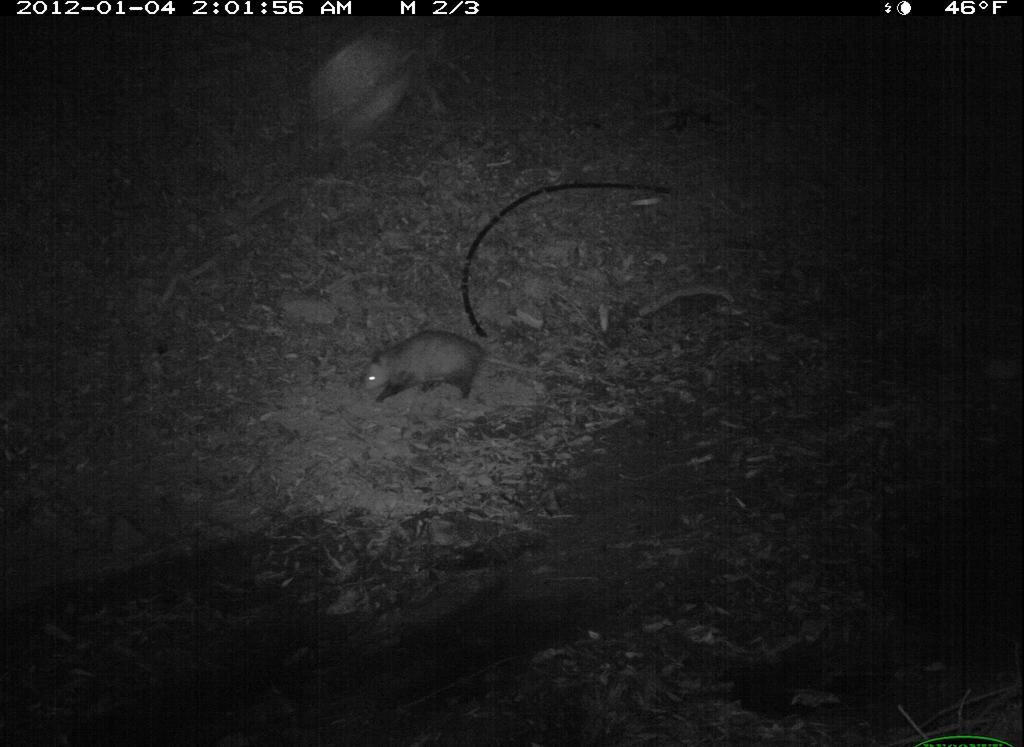opossum: (345, 323, 580, 411)
